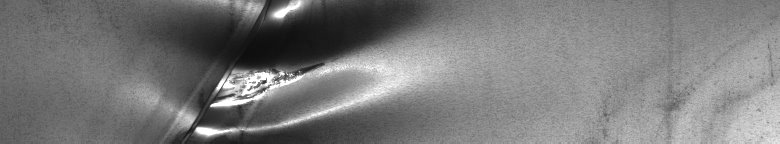ke: (175, 4, 365, 136)
